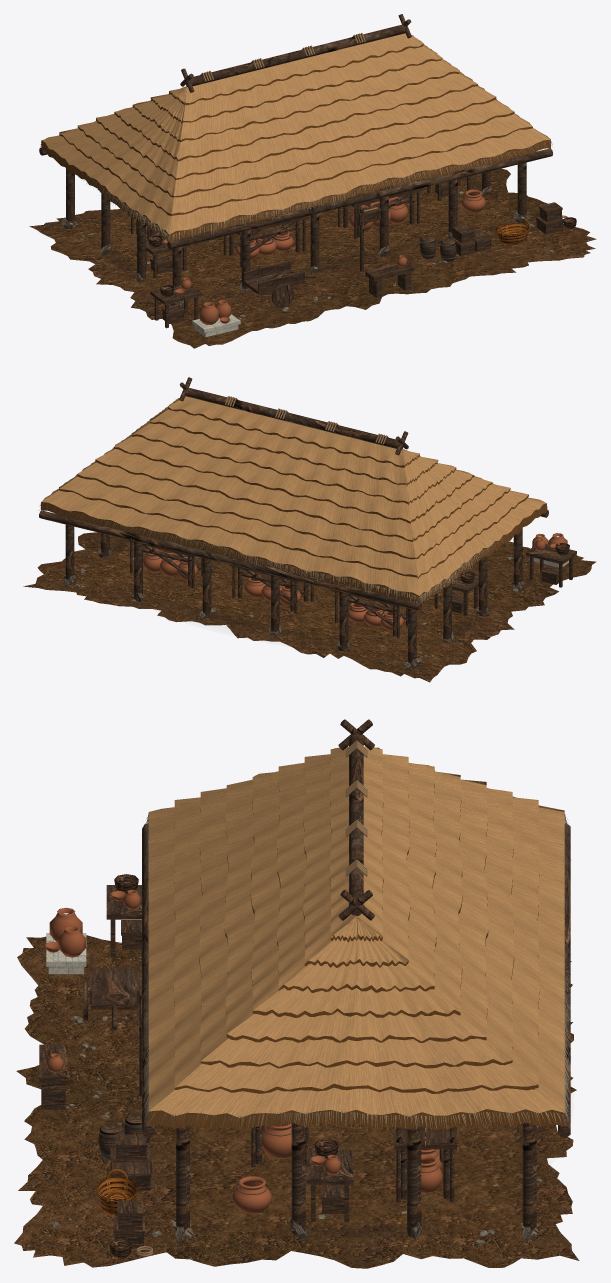
The model's file is market.glb.
3 renders of one model, top to bottom at view 1: azimuth 30°, elevation 25°; view 2: azimuth 150°, elevation 25°; view 3: azimuth 270°, elevation 25°, orthographic. The views are drawn at different scales.
Parts seen in each view (by area): view 1: part_15, part_4, part_1, part_0, part_16, part_7, part_17, part_3, part_5, part_13, part_14, part_12; view 2: part_15, part_4, part_0, part_1, part_16, part_7, part_17, part_3, part_5; view 3: part_15, part_1, part_4, part_0, part_16, part_7, part_17, part_13, part_12, part_3, part_11, part_14 (+2 smaller).
Part boxes in pixels (x1,y1,x2,y2): part_15: [41, 33, 550, 234]; part_4: [39, 14, 564, 328]; part_1: [29, 168, 596, 348]; part_0: [73, 177, 515, 300]; part_16: [41, 44, 550, 241]; part_7: [146, 189, 485, 324]; part_17: [40, 140, 552, 241]; part_3: [100, 176, 491, 280]; part_5: [60, 186, 531, 306]; part_13: [495, 220, 530, 245]; part_14: [192, 314, 240, 337]; part_12: [148, 217, 576, 297]; part_15: [41, 396, 546, 595]; part_4: [39, 377, 576, 666]; part_0: [75, 539, 513, 662]; part_1: [23, 532, 596, 682]; part_16: [41, 407, 546, 603]; part_7: [143, 533, 567, 630]; part_17: [39, 502, 548, 604]; part_3: [100, 538, 485, 641]; part_5: [63, 548, 524, 668]; part_15: [148, 746, 564, 1117]; part_1: [14, 935, 579, 1268]; part_4: [39, 719, 570, 1248]; part_0: [190, 1123, 522, 1231]; part_16: [148, 759, 564, 1130]; part_7: [44, 889, 442, 1213]; part_17: [142, 813, 571, 1131]; part_13: [96, 1169, 137, 1216]; part_12: [109, 874, 338, 1258]; part_3: [174, 1124, 539, 1235]; part_11: [136, 740, 367, 1256]; part_14: [46, 933, 86, 974].
Size of the model in its own units: 8.59 by 3.61 by 6.27.
18 materials, 12 textured.
